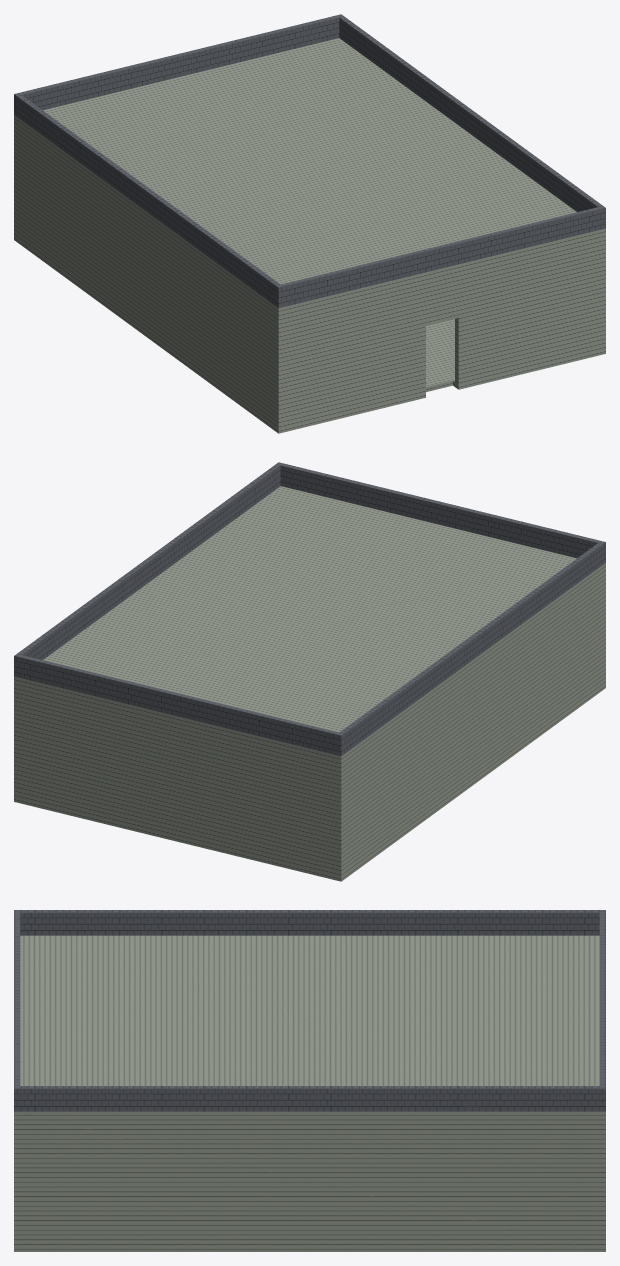
The model's file is local_radio_station.glb.
3 renders of one model, top to bottom at view 1: azimuth 30°, elevation 25°; view 2: azimuth 150°, elevation 25°; view 3: azimuth 270°, elevation 25°, orthographic. The views are drawn at different scales.
Parts seen in each view (by area): view 1: local_radio_station-col; view 2: local_radio_station-col; view 3: local_radio_station-col.
Part boxes in pixels (box(x1,y1,x2,y2)): local_radio_station-col: box(14, 14, 605, 433); local_radio_station-col: box(14, 462, 605, 881); local_radio_station-col: box(14, 910, 605, 1251).
Size of the model in its own units: 10 by 4.26 by 14.
2 materials, 2 textured.
